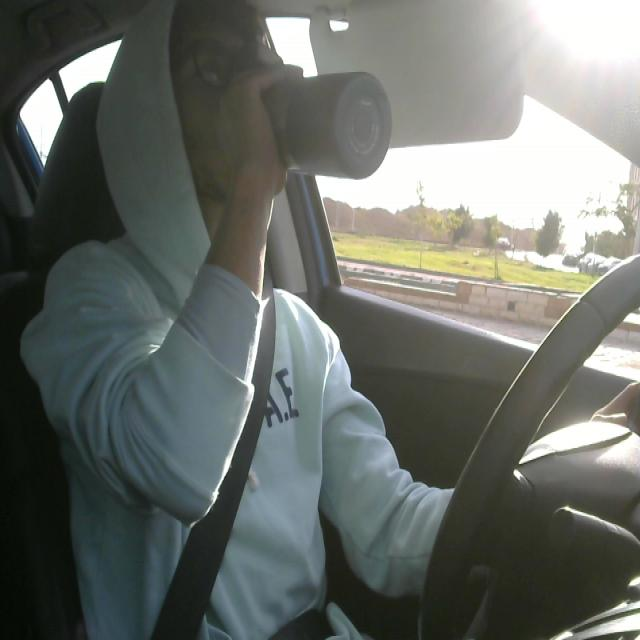drinking: (245, 64, 394, 182)
